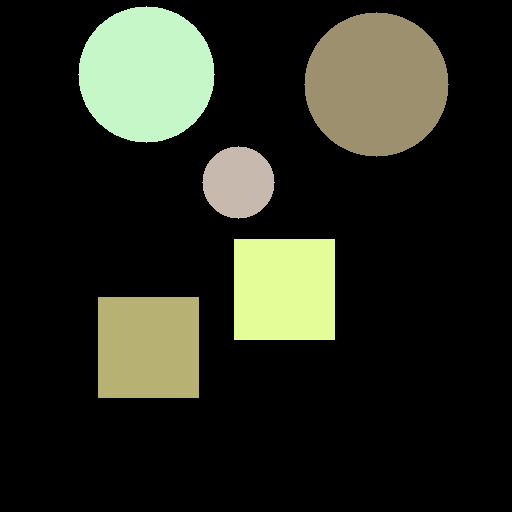circle: (304, 12, 448, 156), (78, 6, 214, 142), (202, 146, 274, 218)
square: (98, 297, 198, 397), (234, 239, 334, 339)
